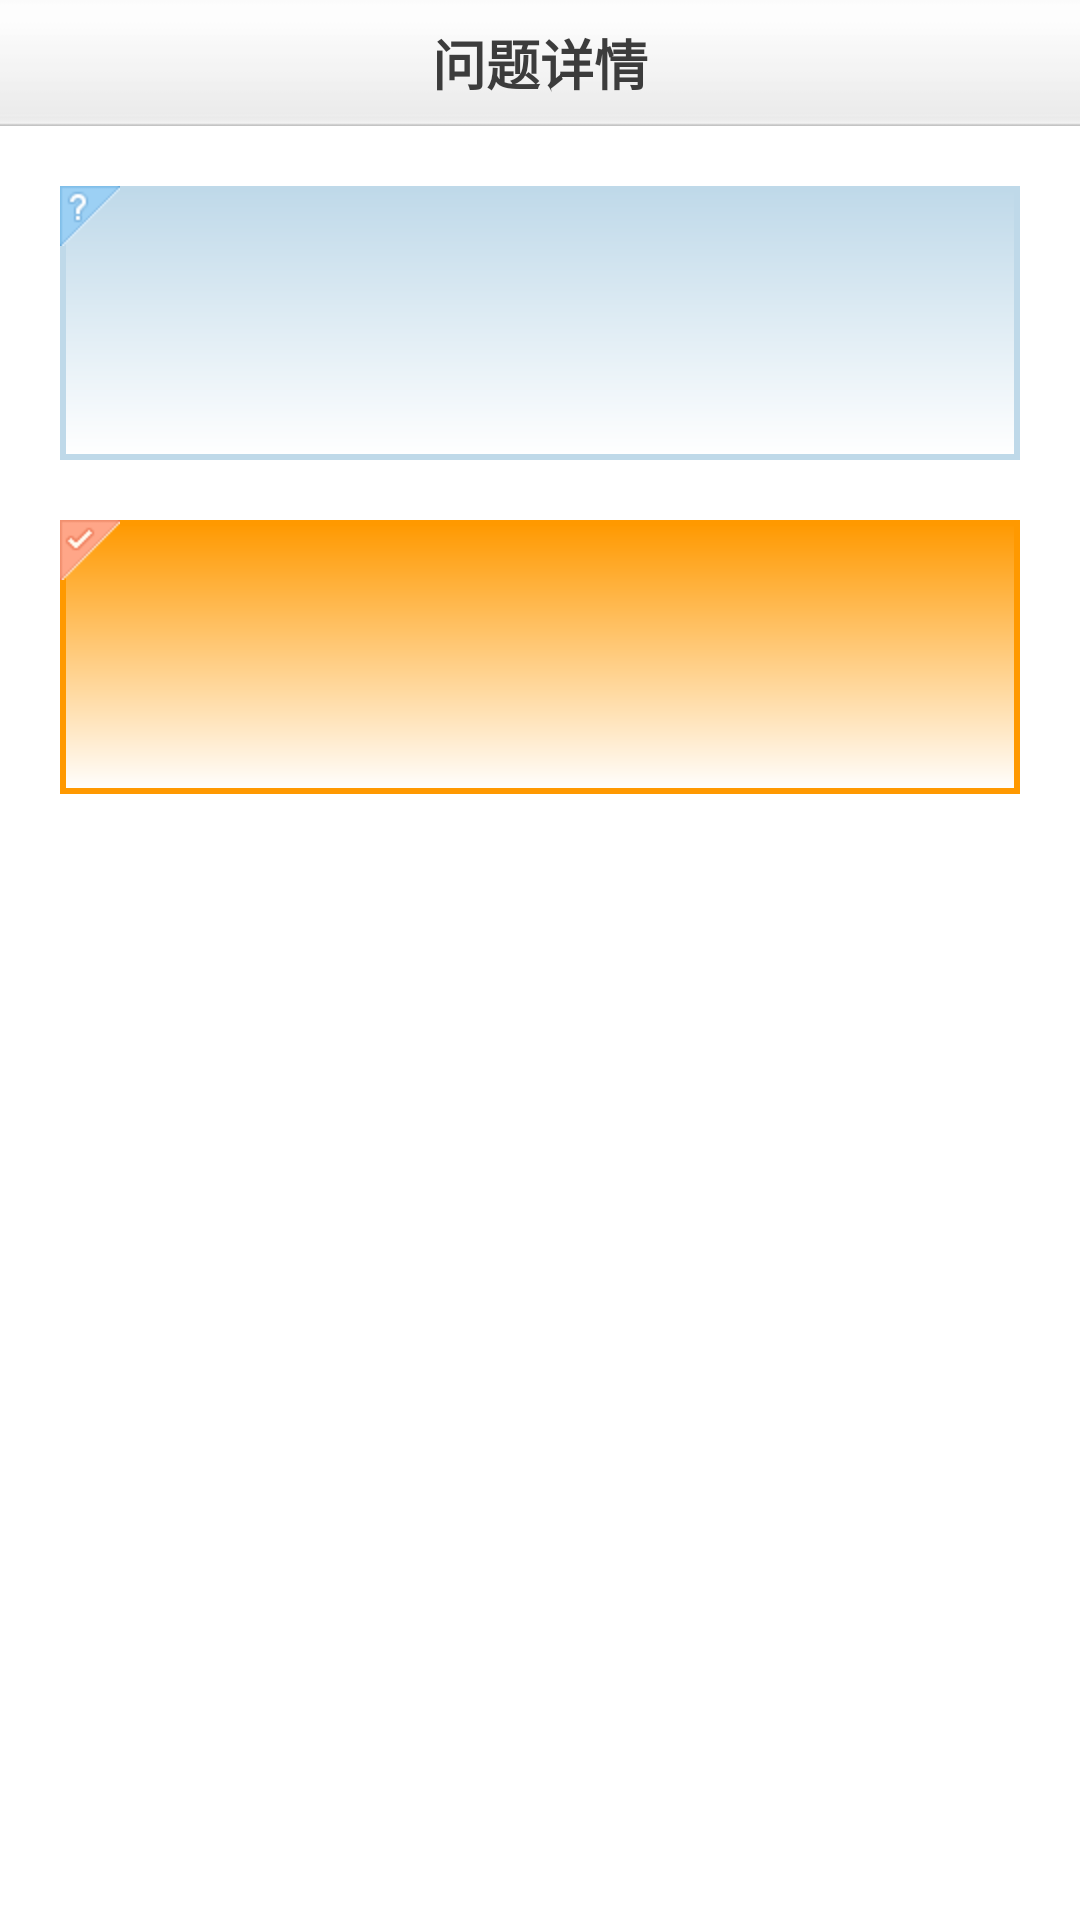

Named icons in this screenshot (1080px×1920px) and their centers, point (x, y):
answer: point (90, 550)
question: point (90, 216)
